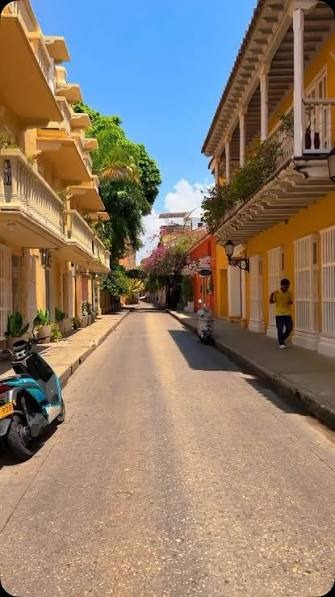car: (1, 340, 63, 466), (1, 341, 63, 464)
